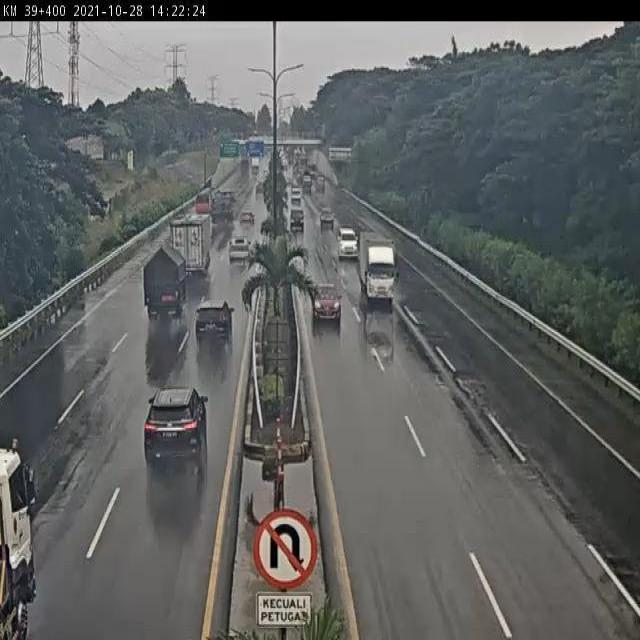car: (142, 384, 208, 465), (196, 297, 235, 344), (313, 280, 342, 324), (227, 235, 252, 268), (336, 228, 360, 260), (317, 204, 337, 229), (289, 207, 305, 230)
truck-l-: (170, 212, 215, 277)
truck-m-: (142, 246, 187, 322)
truck-s-: (359, 230, 396, 306)
